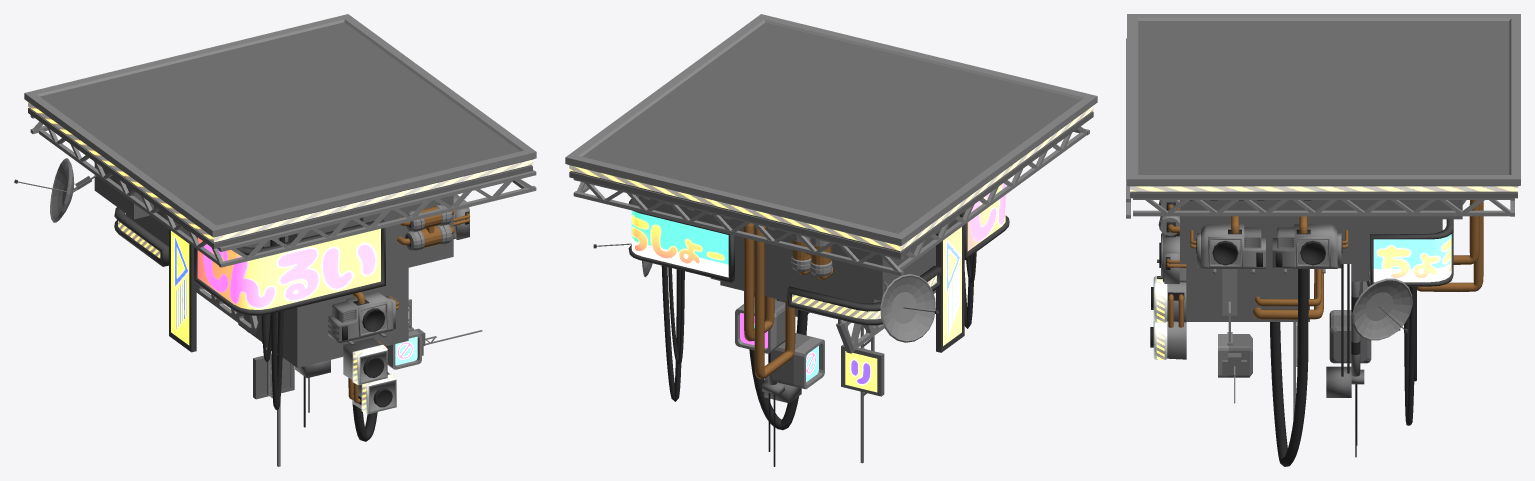
Rendered from Platform_4x4.glb.
3 views of the same model, side by side, from view 1: azimuth 30°, elevation 25°; view 2: azimuth 150°, elevation 25°; view 3: azimuth 270°, elevation 25° (orthographic). The views are drawn at different scales.
Visible parts, largest first — view 1: Platform_4x4; view 2: Platform_4x4; view 3: Platform_4x4.
Boxes of the visible parts, x1,y1,x2,y2 form: Platform_4x4: (14,14,536,466); Platform_4x4: (565,14,1097,466); Platform_4x4: (1126,14,1520,466).
Size of the model in its own units: 4.47 by 3.76 by 3.9.
